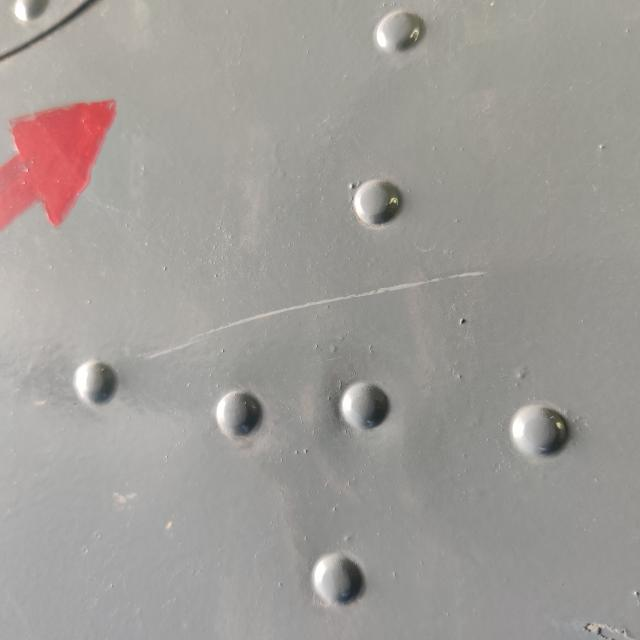scratch: (117, 245, 512, 386)
